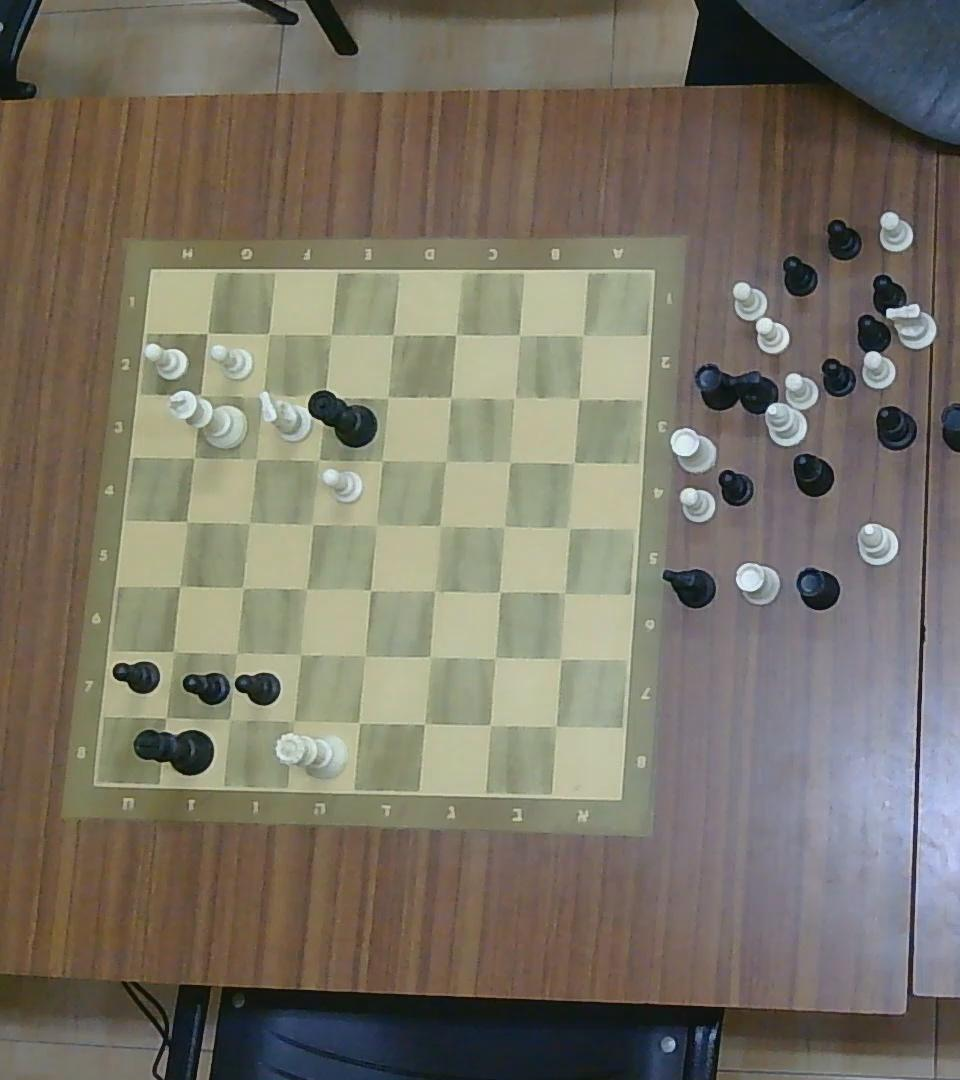xcorner: (477, 712, 503, 738), (246, 383, 272, 409), (543, 714, 569, 739), (412, 711, 437, 736), (281, 708, 305, 732), (347, 710, 371, 734), (418, 644, 442, 668), (482, 646, 506, 669), (154, 705, 178, 728), (353, 643, 376, 666), (289, 643, 311, 665), (218, 708, 240, 729), (439, 386, 461, 406), (549, 648, 571, 668), (319, 324, 341, 344), (188, 386, 210, 406), (225, 642, 245, 663), (183, 447, 203, 467), (429, 516, 449, 536), (372, 450, 392, 470), (423, 580, 443, 600), (378, 387, 397, 408), (296, 578, 315, 599), (435, 450, 454, 470), (367, 514, 386, 534), (489, 582, 508, 602), (361, 580, 380, 600), (555, 582, 574, 602), (446, 325, 465, 345), (170, 575, 189, 595), (177, 511, 196, 531), (315, 386, 334, 406), (309, 448, 327, 469), (240, 513, 259, 532), (559, 518, 578, 537), (303, 514, 321, 534), (495, 516, 513, 536), (260, 324, 278, 344), (384, 325, 402, 345), (248, 449, 266, 468), (198, 323, 217, 341), (500, 451, 518, 470), (565, 453, 583, 471), (165, 642, 183, 660), (233, 578, 251, 596), (505, 389, 523, 406), (511, 326, 528, 344), (573, 327, 591, 344), (572, 390, 588, 405)
